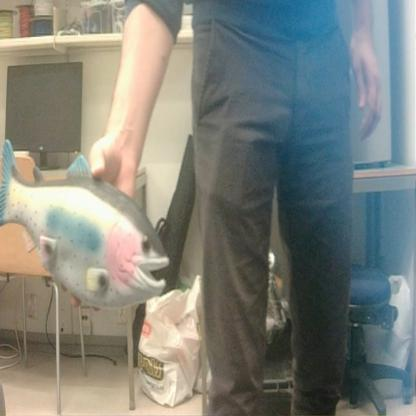rubberfish: (0, 134, 172, 313)
